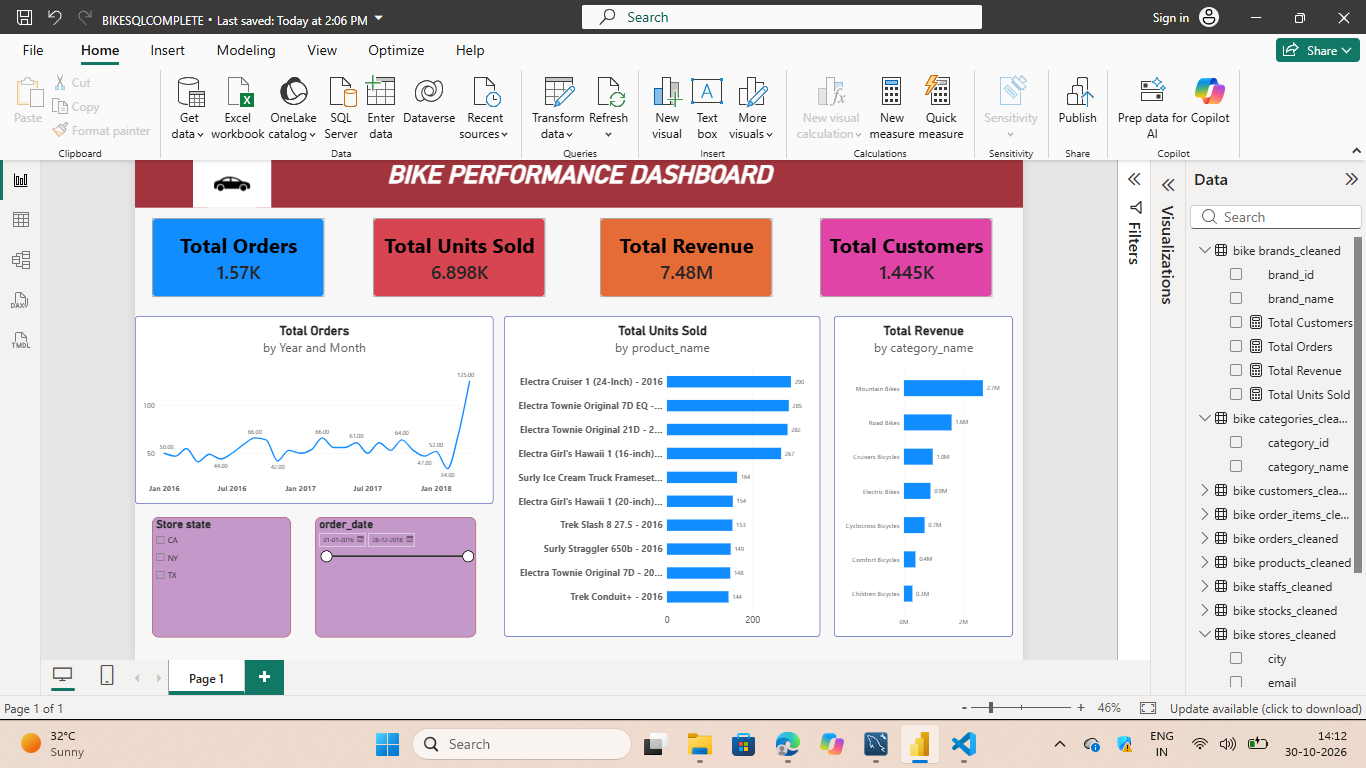

This screenshot's page, from the dashboard's own definition file:
{"tool":"powerbi","page":{"name":"Page 1","canvas":[1920,1080],"ordinal":0},"visuals":[{"type":"textbox","title":"BIKE PERFORMANCE DASHBOARD","box":[0,0,1920,103.3],"z":0},{"type":"cardVisual","fields":{"Data":["bike brands_cleaned.Total Orders"]},"box":[37.8,126,372.9,171.3],"z":1},{"type":"cardVisual","fields":{"Data":["bike brands_cleaned.Total Customers"]},"box":[1479.1,126,372.9,171.3],"z":2},{"type":"cardVisual","fields":{"Data":["bike brands_cleaned.Total Revenue"]},"box":[1005.4,126,372.9,171.3],"z":3},{"type":"cardVisual","fields":{"Data":["bike brands_cleaned.Total Units Sold"]},"box":[514,126,372.9,171.3],"z":4},{"type":"lineChart","fields":{"Category":["bike orders_cleaned.order_date.Variation.Date Hierarchy.Year","bike orders_cleaned.order_date.Variation.Date Hierarchy.Month"],"Y":["bike brands_cleaned.Total Orders"]},"box":[0,337.6,773.5,405.7],"z":5},{"type":"clusteredBarChart","fields":{"Category":["bike products_cleaned.product_name"],"Y":["bike brands_cleaned.Total Units Sold"]},"box":[796.2,337.6,682.8,692.9],"z":6},{"type":"barChart","fields":{"Category":["bike categories_cleaned.category_name"],"Y":["bike brands_cleaned.Total Revenue"]},"box":[1509.3,337.6,385.5,692.9],"z":7},{"type":"slicer","fields":{"Values":["bike orders_cleaned.order_date"]},"box":[388,771,347.7,259.5],"z":8},{"type":"image","box":[126,0,168.8,103.3],"z":9},{"type":"slicer","fields":{"Values":["bike stores_cleaned.state"]},"box":[37.8,771,299.8,259.5],"z":10}]}

Visuals, with their boxes on the page's 1920x1080 design canvas (x1, y1, x2, y2). These are canvas units, not pixel positions in the 1366x768 screenshot, which may show the page scaled, cropped or inside an application window:
"BIKE PERFORMANCE DASHBOARD" textbox: select_region(0, 0, 1920, 103)
cardVisual - bike brands_cleaned.Total Orders: select_region(38, 126, 411, 297)
cardVisual - bike brands_cleaned.Total Customers: select_region(1479, 126, 1852, 297)
cardVisual - bike brands_cleaned.Total Revenue: select_region(1005, 126, 1378, 297)
cardVisual - bike brands_cleaned.Total Units Sold: select_region(514, 126, 887, 297)
lineChart - bike orders_cleaned.order_date.Variation.Date Hierarchy.Year x bike orders_cleaned.order_date.Variation.Date Hierarchy.Month: select_region(0, 338, 774, 743)
clusteredBarChart - bike products_cleaned.product_name x bike brands_cleaned.Total Units Sold: select_region(796, 338, 1479, 1030)
barChart - bike categories_cleaned.category_name x bike brands_cleaned.Total Revenue: select_region(1509, 338, 1895, 1030)
slicer - bike orders_cleaned.order_date: select_region(388, 771, 736, 1030)
image: select_region(126, 0, 295, 103)
slicer - bike stores_cleaned.state: select_region(38, 771, 338, 1030)
